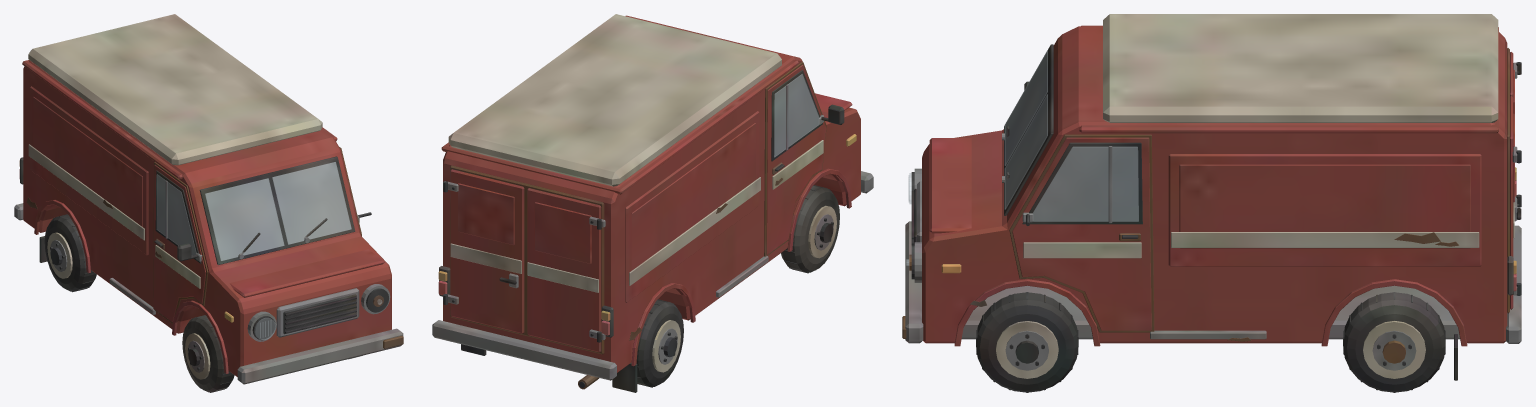
File: CV13_mail_van.glb
3 renders of one model, left to right at view 1: azimuth 30°, elevation 25°; view 2: azimuth 150°, elevation 25°; view 3: azimuth 270°, elevation 25°, orthographic. The views are drawn at different scales.
Visible parts, largest first — view 1: Pressed body shell; view 2: Pressed body shell; view 3: Pressed body shell.
Boxes of the visible parts, x1=… form: Pressed body shell: x1=14, y1=14, x2=403, y2=392; Pressed body shell: x1=432, y1=14, x2=873, y2=392; Pressed body shell: x1=902, y1=14, x2=1521, y2=392.
Bounding box in the file's own units: 2.3 × 2.43 × 4.8.
Materials: 10 (9 with a texture image).
